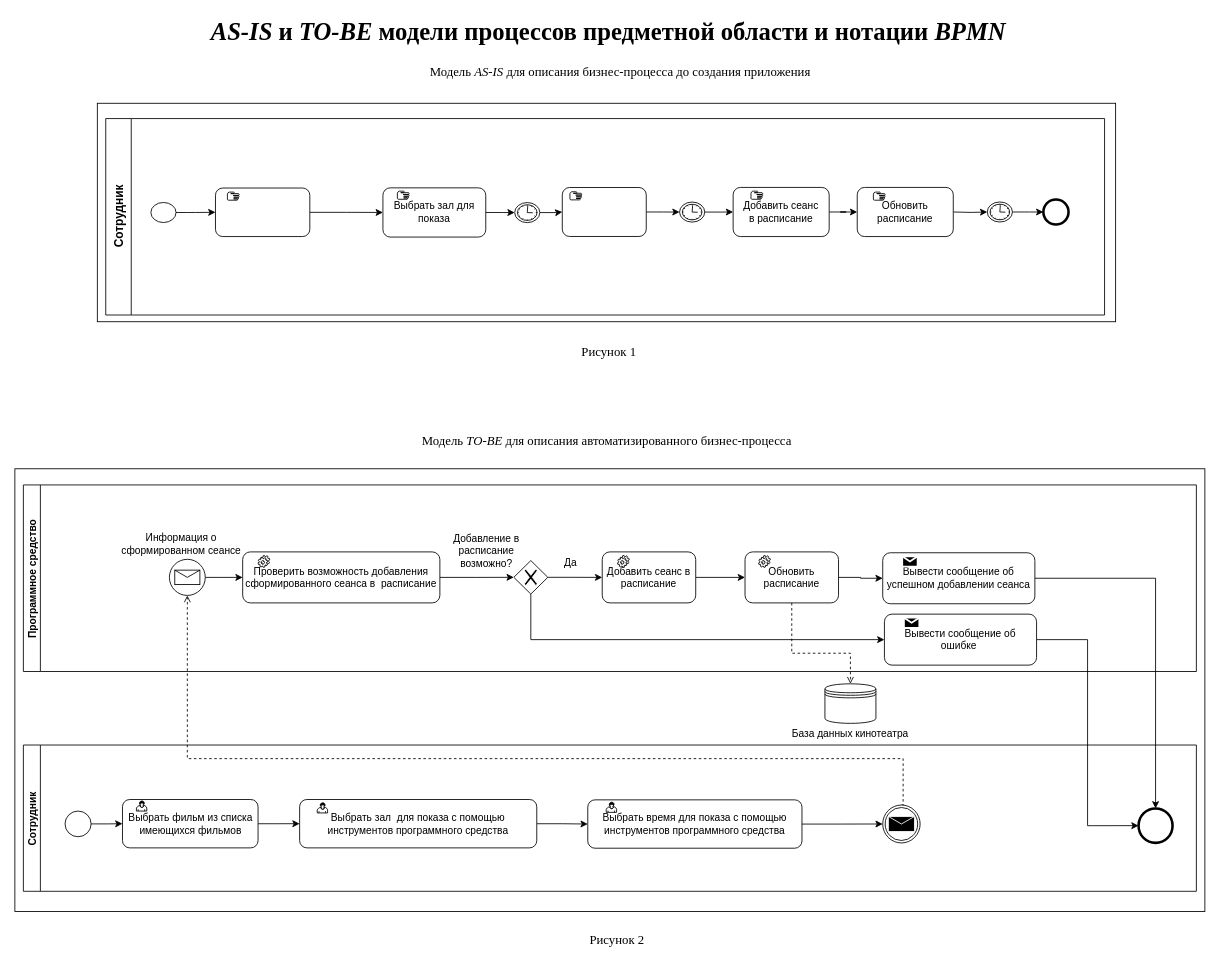
This 1220x963 diagram has some shape labels left out. The shapes that lost their labels are listed below. From the top down, each one's centre as x and y in pixels, then its label:
the point at 262,212: Выбрать фильм для показа
the point at 603,211: Выбрать время для показа
the point at 901,823: Сформированный сеанс
